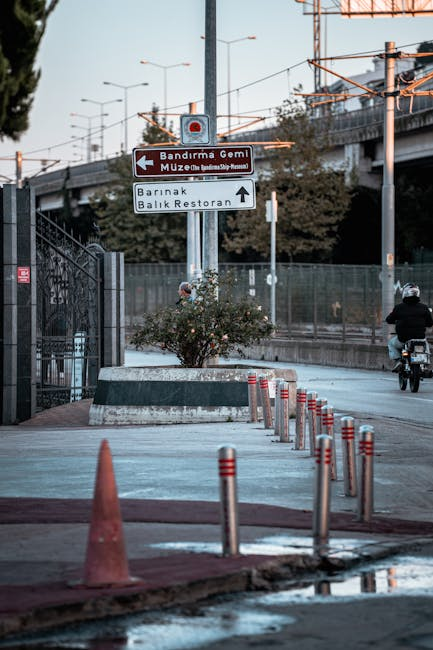traffic_cone: (67, 437, 145, 591)
